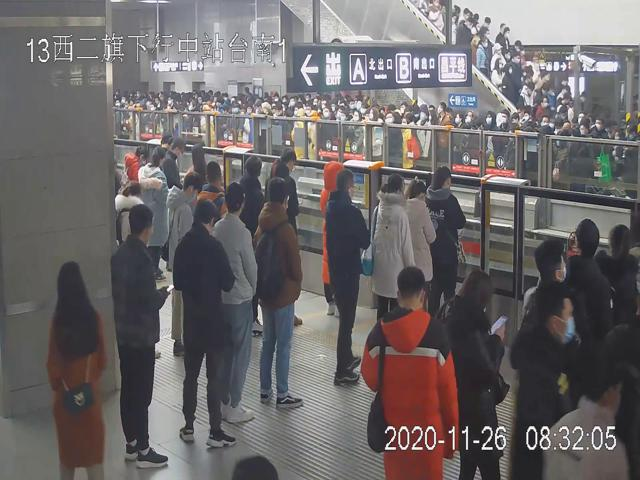person: (362, 266, 459, 480), (173, 197, 236, 449), (111, 204, 169, 471), (442, 270, 511, 480), (46, 262, 108, 480), (254, 177, 305, 411), (324, 169, 371, 388), (216, 183, 257, 424), (371, 173, 414, 316), (425, 164, 466, 308), (406, 180, 436, 308)
